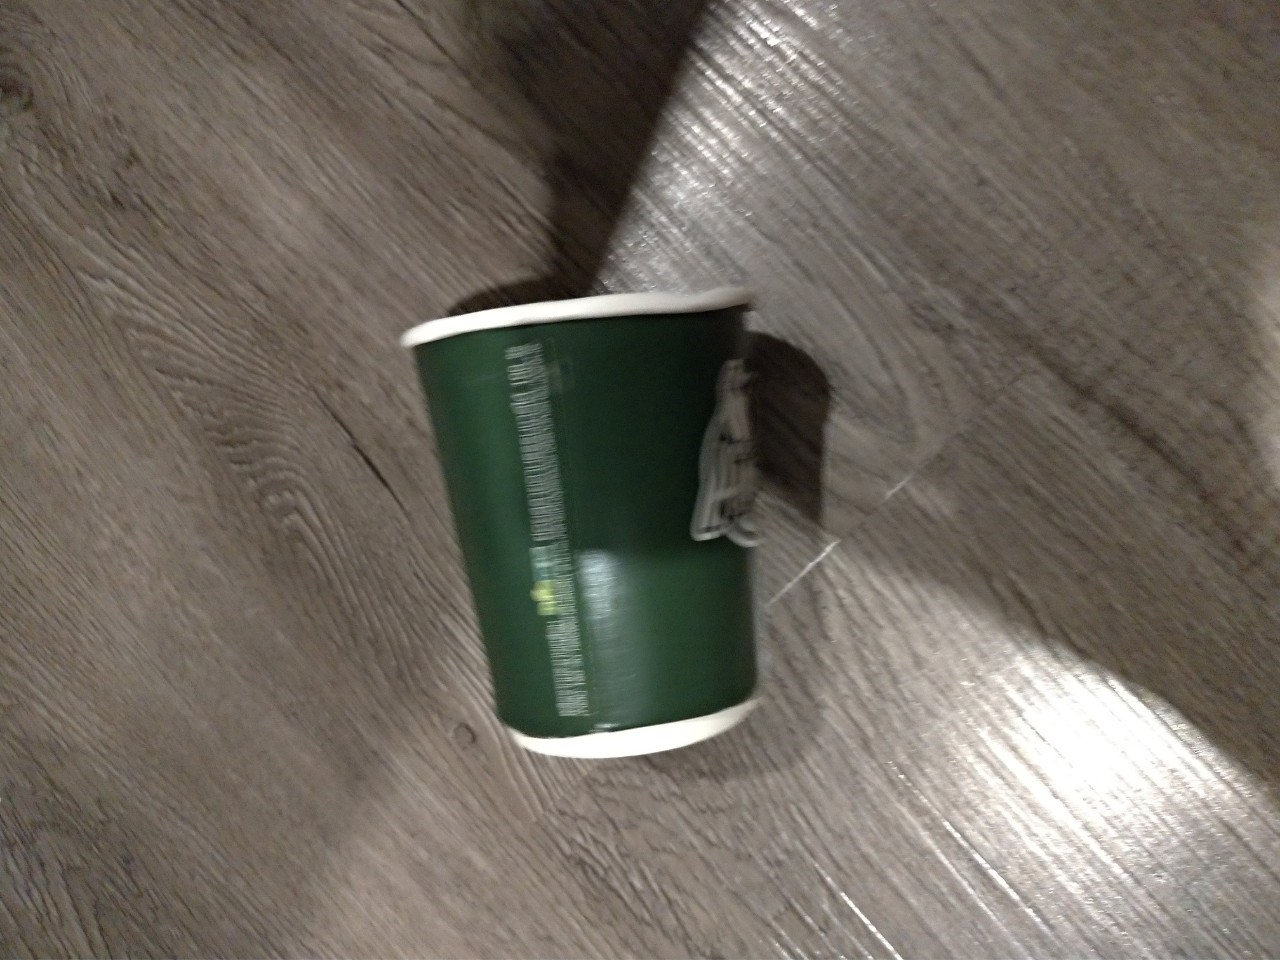PaperCup: (402, 281, 774, 769)
